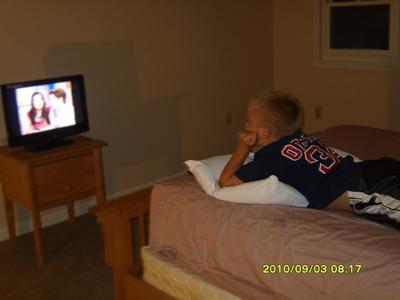person: (218, 89, 399, 230)
